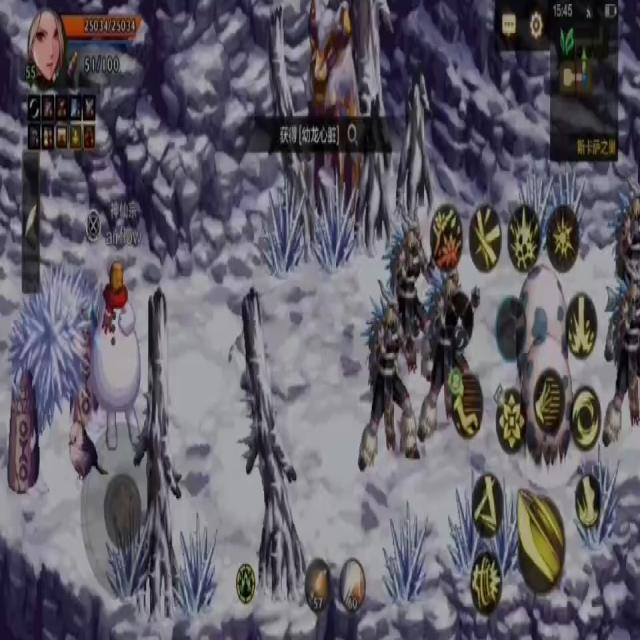player: (84, 260, 146, 457)
